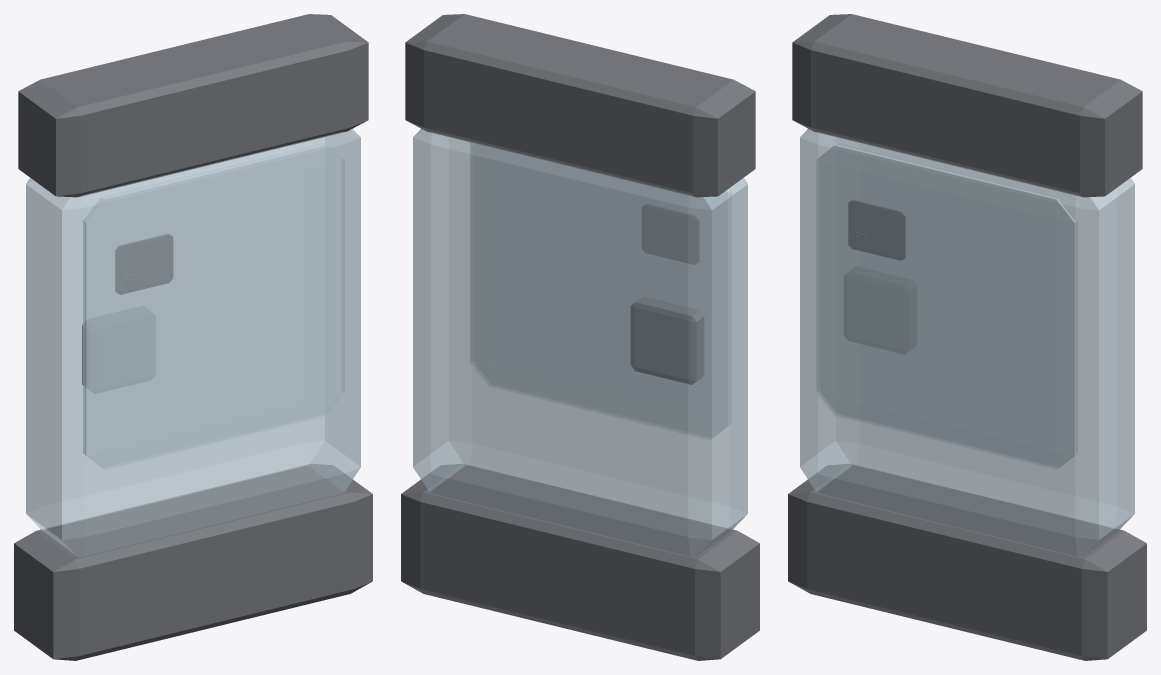
File: b12_double_hung_sash_window.glb
The picture shows the model from 3 angles, left to right: view 1: azimuth 30°, elevation 25°; view 2: azimuth 150°, elevation 25°; view 3: azimuth 330°, elevation 25°; orthographic projection.
Parts seen in each view (by area): view 1: b12_double_hung_sash_window; view 2: b12_double_hung_sash_window; view 3: b12_double_hung_sash_window.
Boxes of the visible parts, x1=… form: b12_double_hung_sash_window: x1=14, y1=14, x2=372, y2=660; b12_double_hung_sash_window: x1=401, y1=14, x2=759, y2=660; b12_double_hung_sash_window: x1=788, y1=14, x2=1146, y2=660.
Size of the model in its own units: 1.09 by 1.8 by 0.27.
